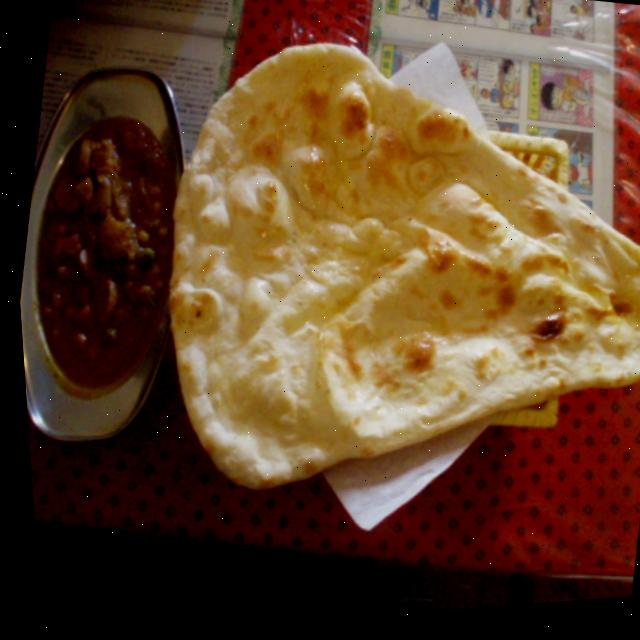牛肉菜式: (3, 41, 220, 457)
